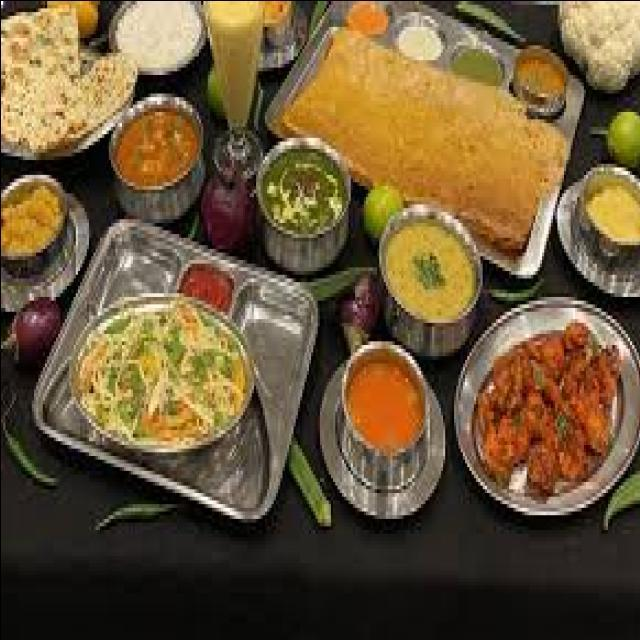dal: (62, 285, 245, 463), (382, 202, 480, 348)
papad: (291, 35, 566, 255), (0, 0, 110, 174)
rice: (66, 286, 241, 463)
sambar-rasam: (330, 344, 434, 473), (106, 93, 205, 205), (105, 0, 210, 78)
sweet: (2, 166, 77, 285), (571, 170, 637, 278), (5, 288, 62, 366)
veg-fry: (457, 308, 637, 514)
